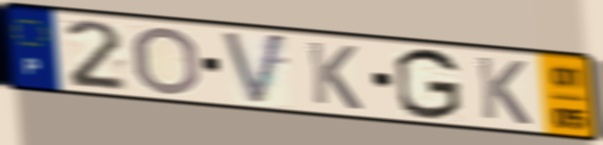2: (62, 18, 133, 93)
G: (391, 46, 465, 123)
K: (304, 38, 366, 113), (473, 53, 535, 128)
O: (131, 24, 204, 97)
V: (218, 28, 290, 109)
